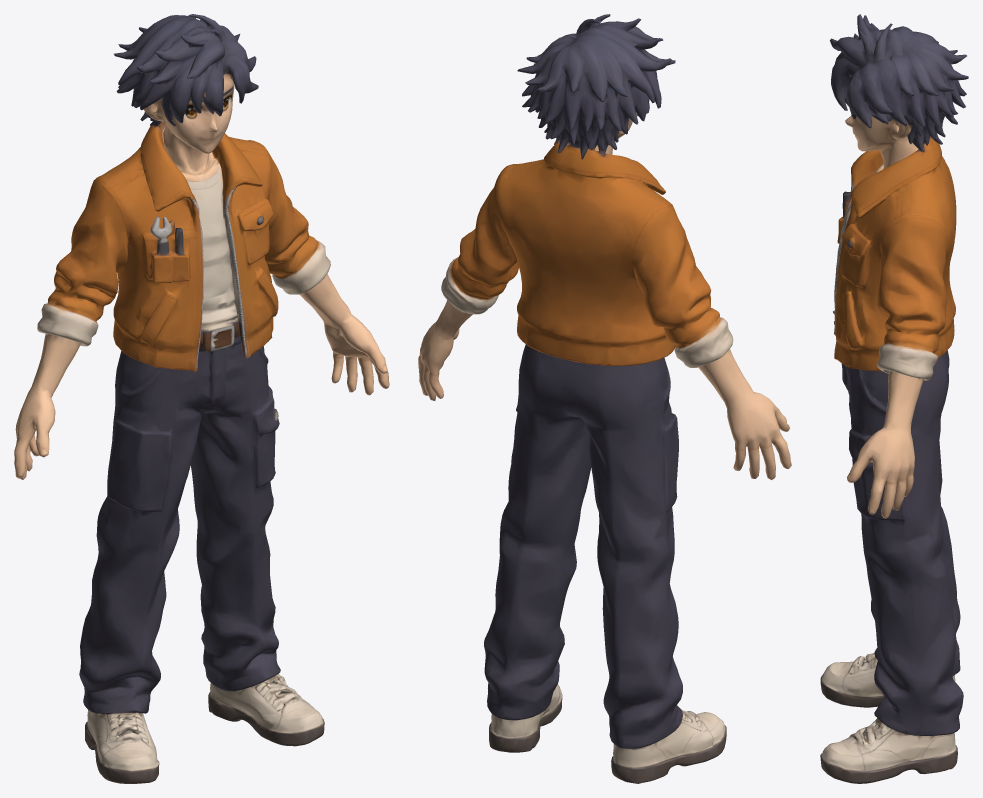
The model's file is CH_Haru_JRPG_Pilot_Raw.glb.
3 renders of one model, left to right at view 1: azimuth 30°, elevation 25°; view 2: azimuth 150°, elevation 25°; view 3: azimuth 270°, elevation 25°, orthographic. The views are drawn at different scales.
Parts seen in each view (by area): view 1: tripo_node_8de33a49-b257-44fb-811b-e39974d6578d; view 2: tripo_node_8de33a49-b257-44fb-811b-e39974d6578d; view 3: tripo_node_8de33a49-b257-44fb-811b-e39974d6578d.
Part boxes in pixels (left/top/right/bottom): tripo_node_8de33a49-b257-44fb-811b-e39974d6578d: left=14, top=14, right=389, bottom=783; tripo_node_8de33a49-b257-44fb-811b-e39974d6578d: left=418, top=14, right=791, bottom=783; tripo_node_8de33a49-b257-44fb-811b-e39974d6578d: left=820, top=14, right=968, bottom=783.
Size of the model in its own units: 0.5348 by 1 by 0.1891.
1 material, 1 textured.
